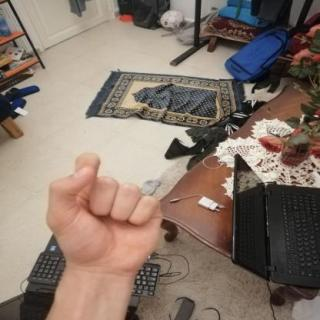FAA: (35, 142, 177, 284)
